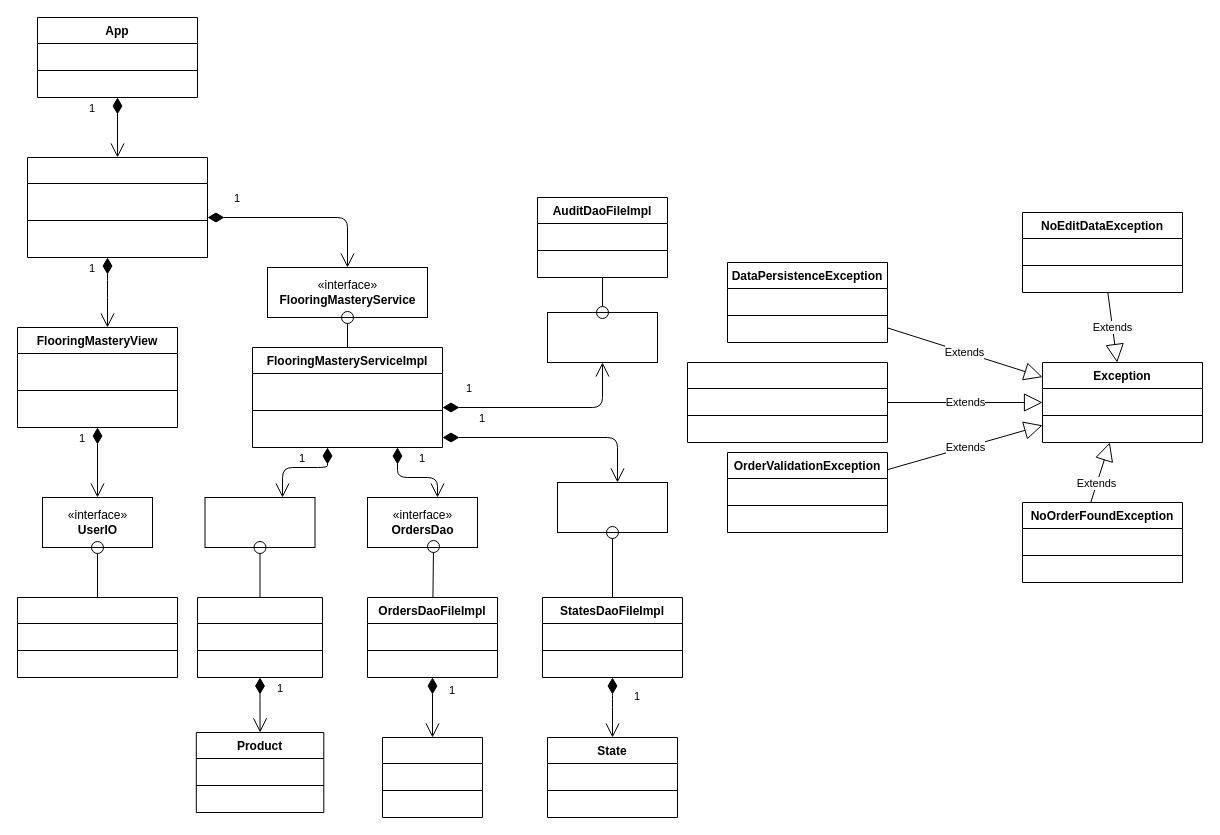
Image size: 1220x835. Some labels were removed from this diagram. Here are the shapes that lost their labels. From the top down, the centre of each, then its label:
At (117,207): "FlooringMasteryController".
At (602,337): "«interface» AuditDao".
At (787,402): "InvalidStateException".
At (259,522): "«interface» ProductsDao".
At (612,507): "«interface» StatesDao".
At (97,637): "UserIoConsoleImpl".
At (259,637): "ProductsDaoFileImpl".
At (432,777): "Order".
